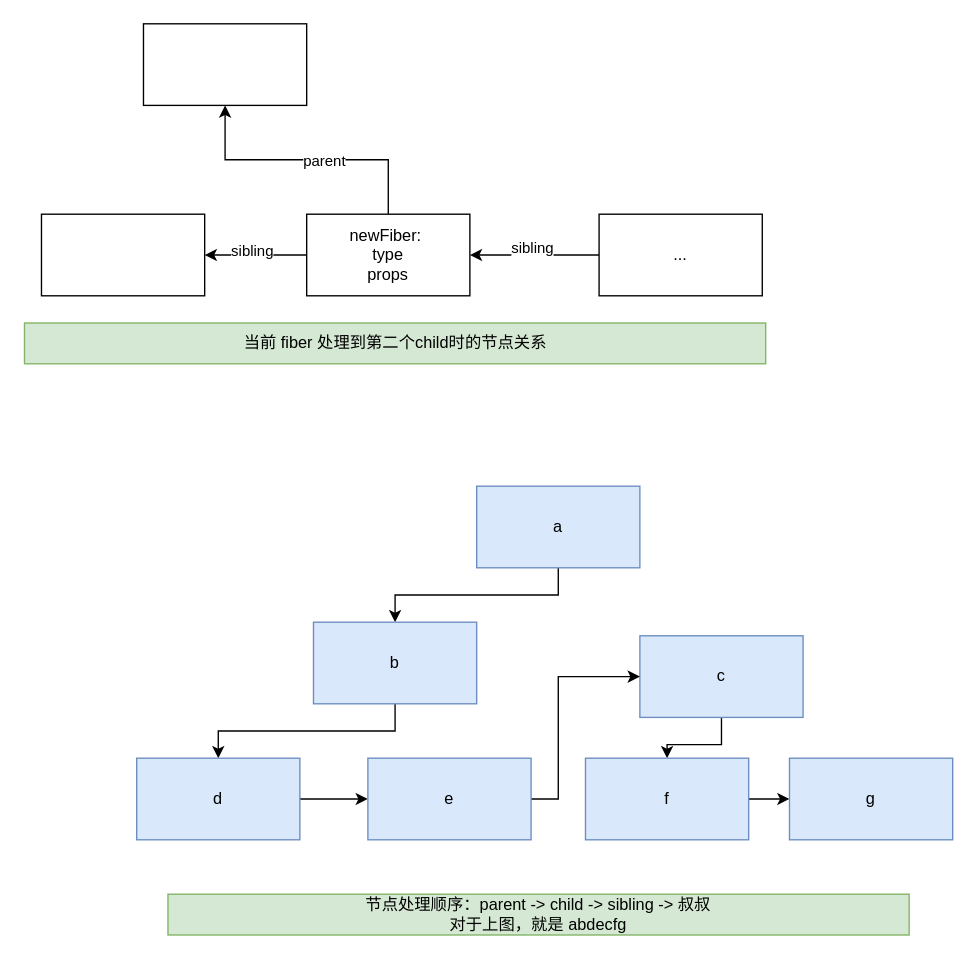
Some shapes in this 976 by 959 pixel diagram are drawn without their labels. The shapes that lost their labels are listed below. From the top down, each one's centre as x and y in pixels, then its label:
pixel 224 63: fiber
pixel 122 254: prevChild
